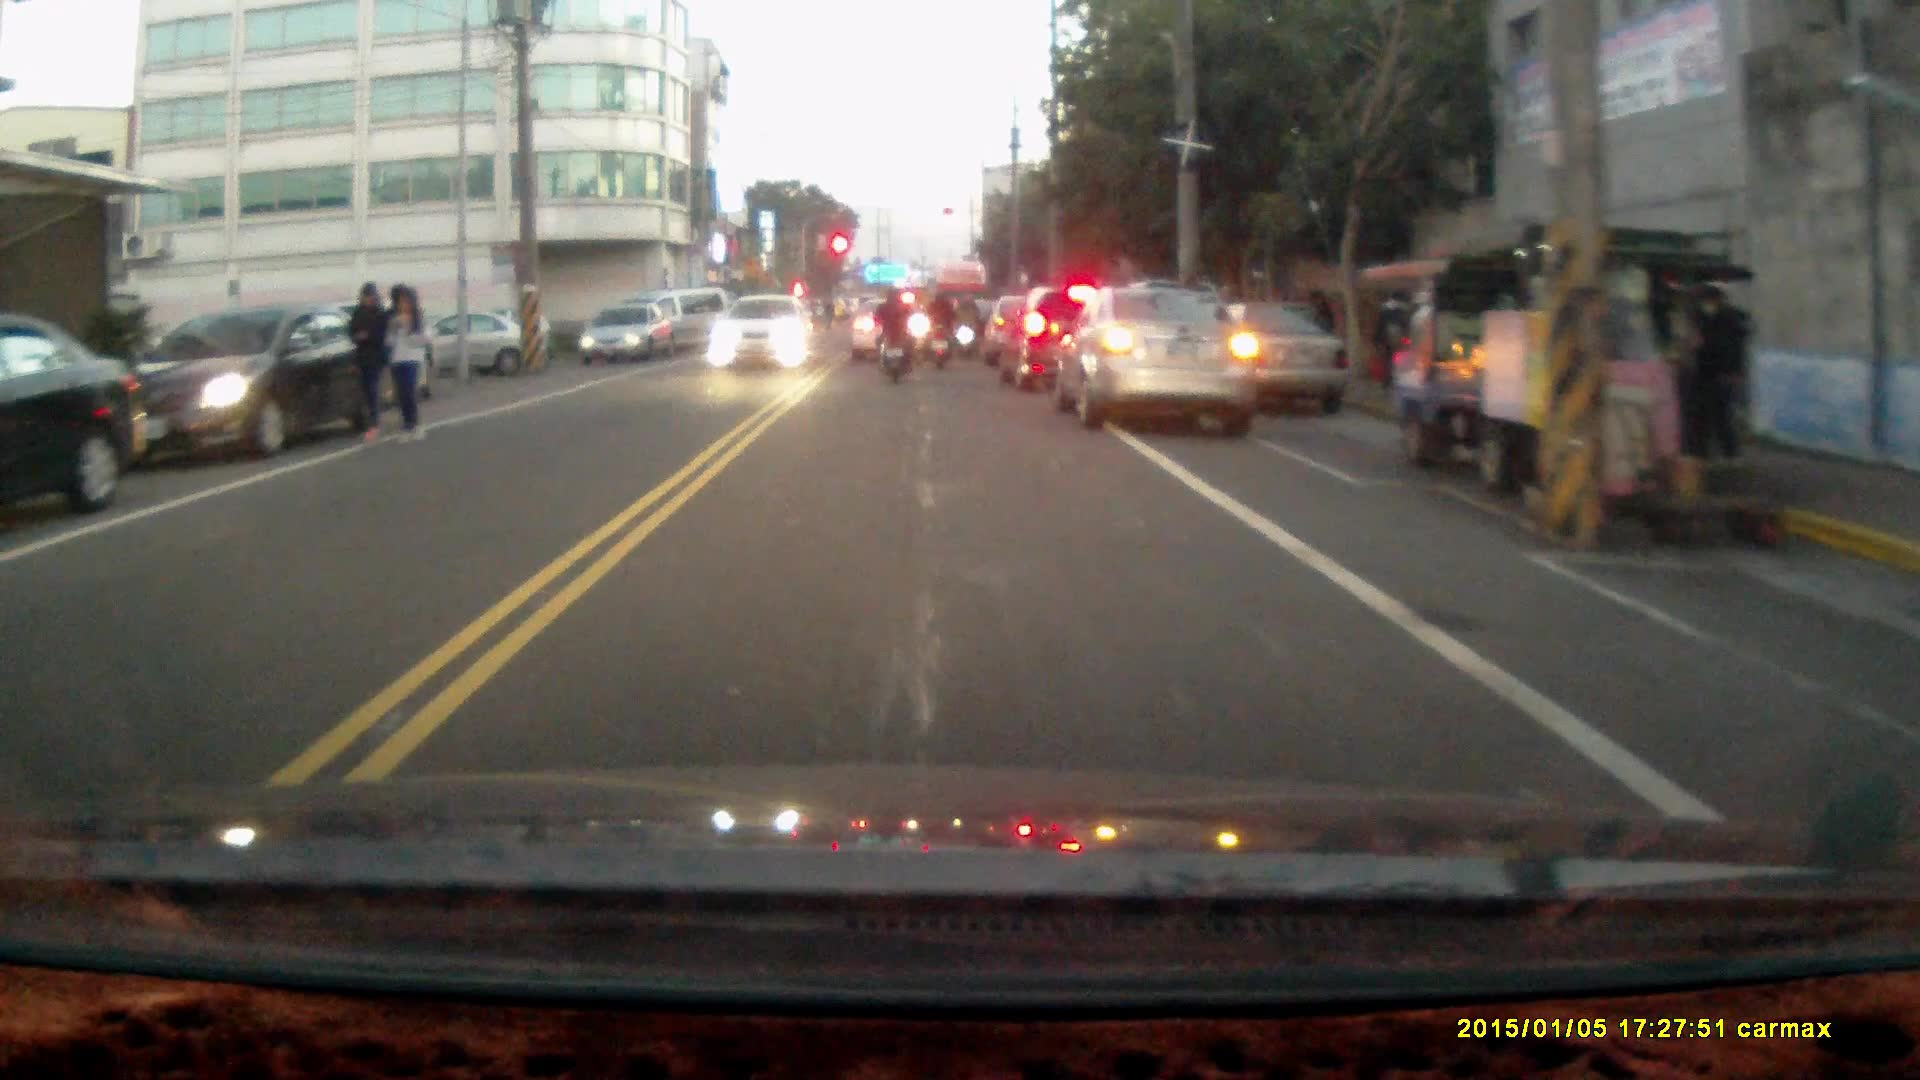pedestrian: (1696, 277, 1757, 462), (347, 278, 394, 446), (383, 282, 429, 448), (1372, 285, 1410, 405)
rider: (870, 285, 913, 384), (921, 288, 953, 367)
vehicle: (1395, 219, 1737, 487), (84, 297, 386, 465), (0, 309, 145, 529), (1059, 275, 1257, 423), (1007, 279, 1175, 390), (705, 294, 811, 367), (580, 302, 669, 362), (850, 294, 934, 358)
